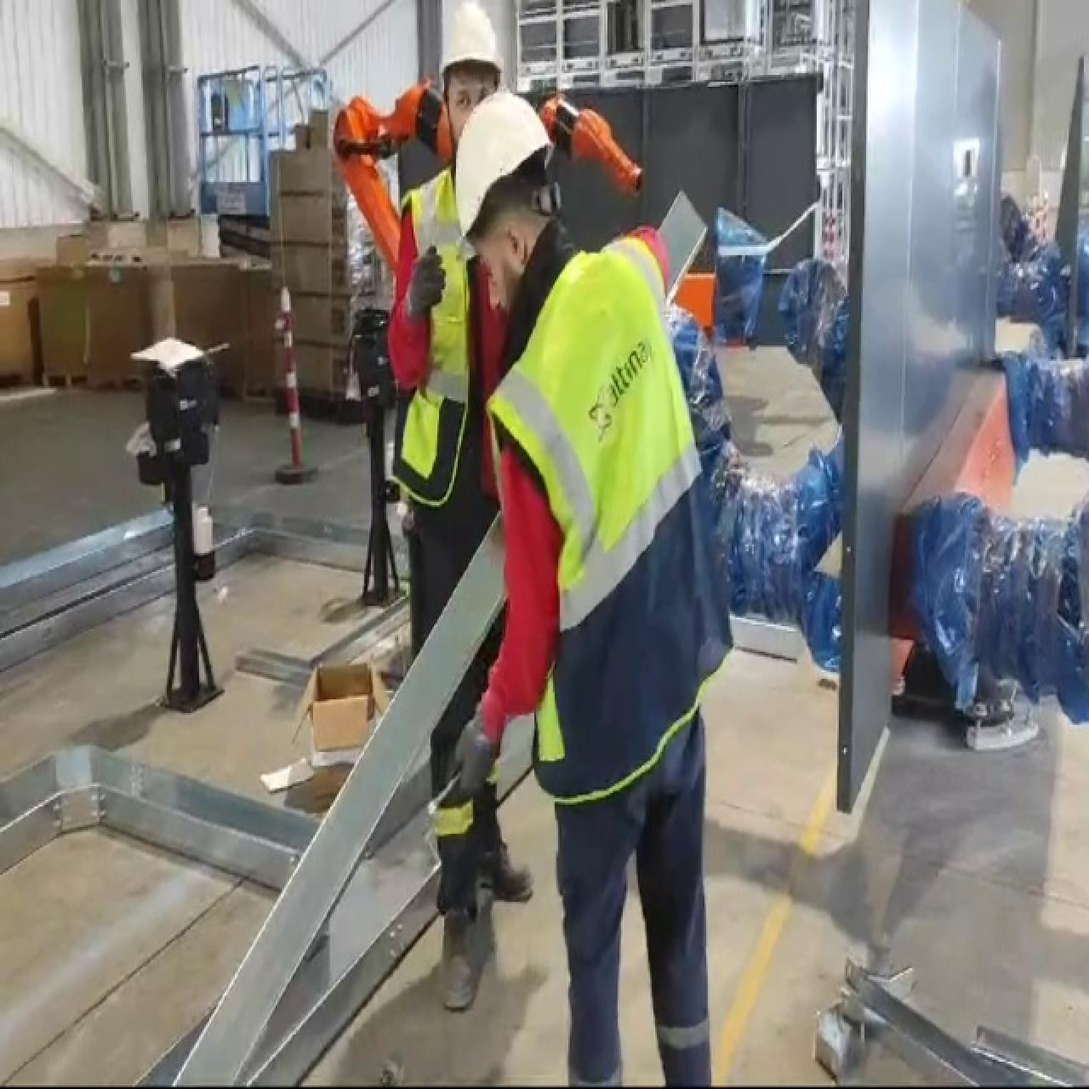Person: (429, 89, 776, 1087), (354, 0, 573, 1006)
Safety_Vest: (491, 249, 745, 801), (391, 175, 495, 505)
